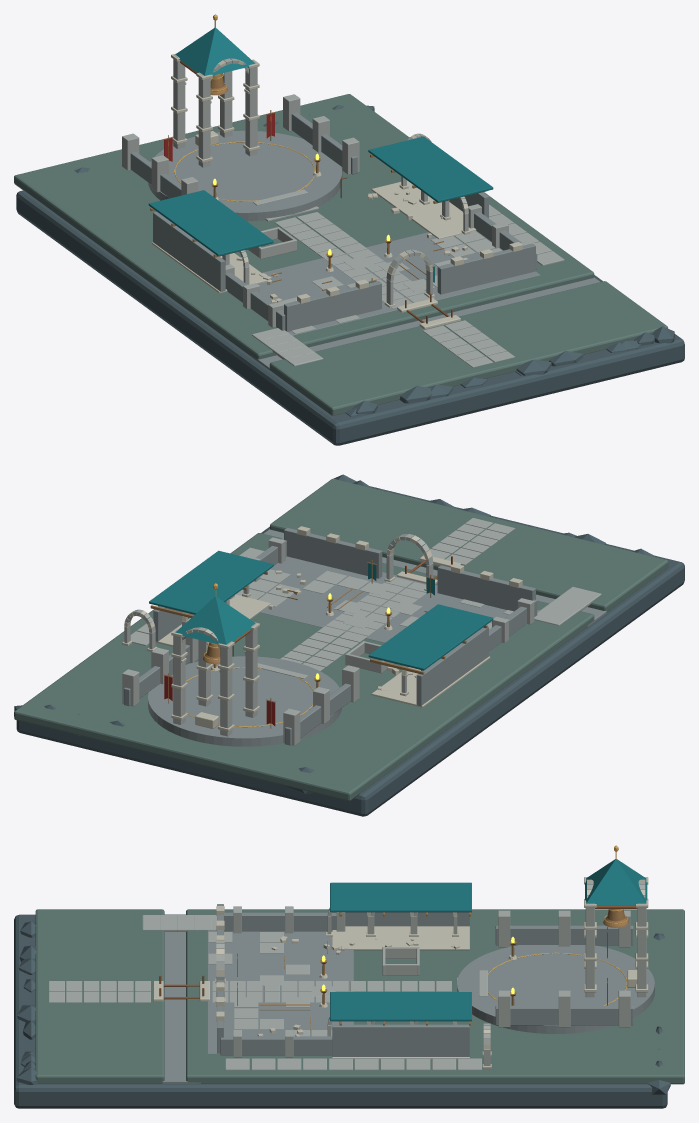
The model's file is SM_Abbey_StaticShell.fbx.
3 renders of one model, top to bottom at view 1: azimuth 30°, elevation 25°; view 2: azimuth 150°, elevation 25°; view 3: azimuth 270°, elevation 25°, orthographic.
Visible parts, largest first — view 1: SM_Abbey_StaticShell; view 2: SM_Abbey_StaticShell; view 3: SM_Abbey_StaticShell.
Boxes of the visible parts, left/top/right/bottom form: SM_Abbey_StaticShell: left=14, top=14, right=684, bottom=445; SM_Abbey_StaticShell: left=14, top=474, right=684, bottom=816; SM_Abbey_StaticShell: left=14, top=845, right=684, bottom=1108.
Size of the model in its own units: 48.61 by 78 by 22.85.
